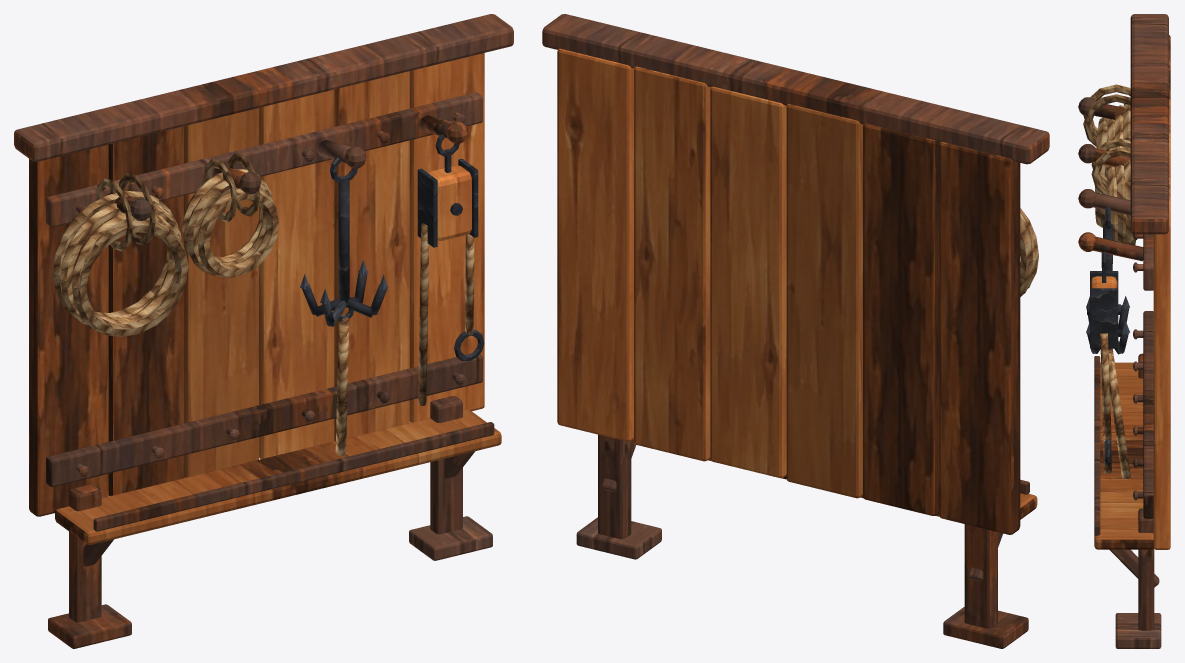
The model's file is mg_rope_wall.glb.
3 renders of one model, left to right at view 1: azimuth 30°, elevation 25°; view 2: azimuth 150°, elevation 25°; view 3: azimuth 270°, elevation 25°, orthographic. The views are drawn at different scales.
Parts seen in each view (by area): view 1: model; view 2: model; view 3: model.
Boxes of the visible parts, x1,y1,x2,y2 form: model: (14,14,513,648); model: (542,14,1049,648); model: (1078,14,1170,648).
Size of the model in its own units: 1.28 by 1.29 by 0.243.
11 materials, 11 textured.
